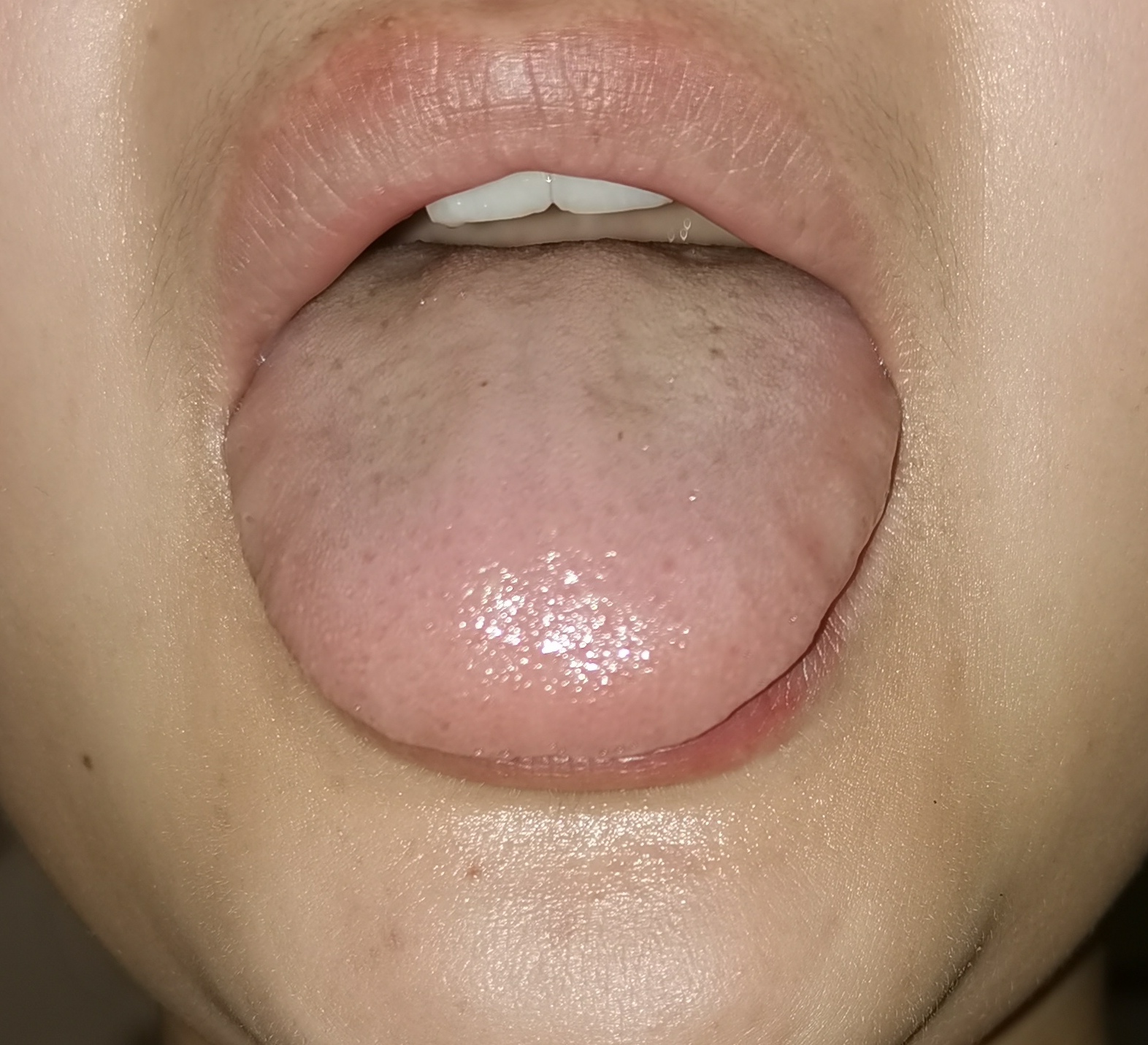baitaishe: (222, 239, 903, 760)
hongdianshe: (705, 342, 724, 362), (475, 375, 491, 392)
pangdashe: (221, 238, 903, 759)
